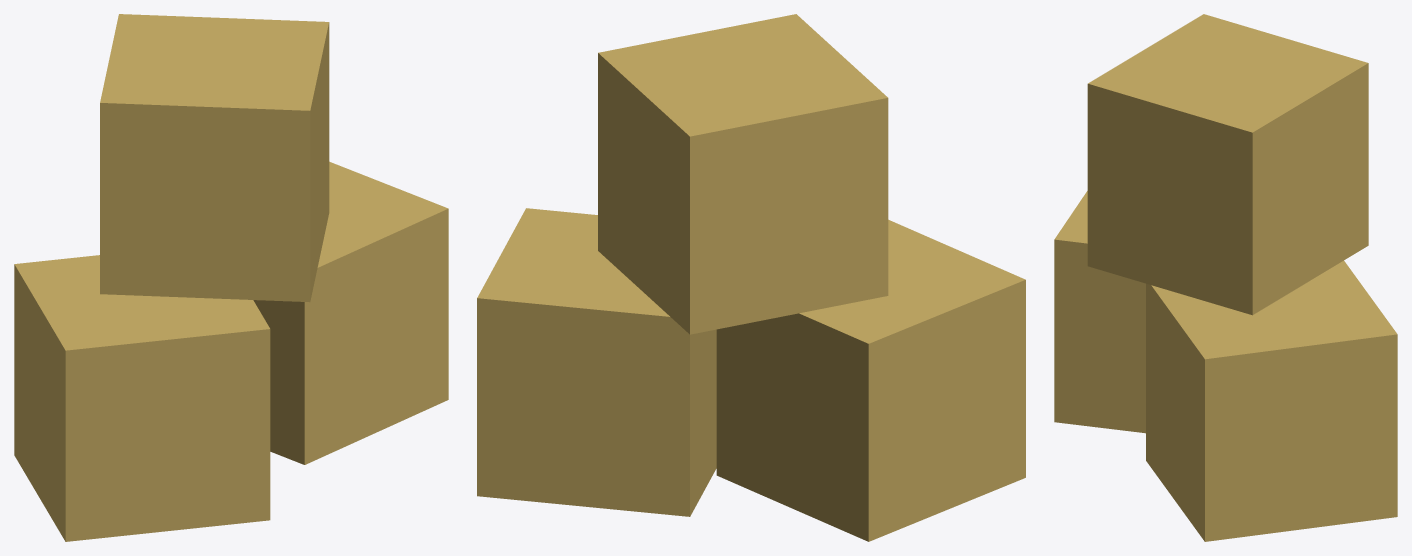
Rendered from SM_WoodenBlockSet.fbx.
3 renders of one model, left to right at view 1: azimuth 30°, elevation 25°; view 2: azimuth 150°, elevation 25°; view 3: azimuth 270°, elevation 25°, orthographic. The views are drawn at different scales.
Visible parts, largest first — view 1: SM_WoodenBlockSet; view 2: SM_WoodenBlockSet; view 3: SM_WoodenBlockSet.
Boxes of the visible parts, x1,y1,x2,y2 form: SM_WoodenBlockSet: (14,14,448,541); SM_WoodenBlockSet: (477,14,1025,541); SM_WoodenBlockSet: (1054,14,1397,541).
Bounding box in the file's own units: 11.84 × 10 × 8.52.
